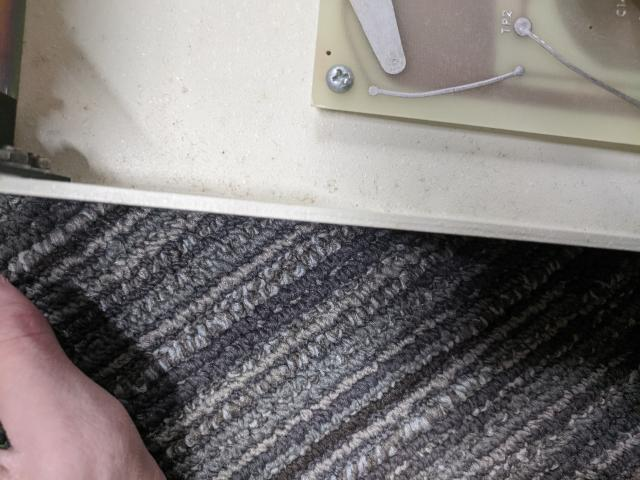CRS: (326, 65, 355, 94)
